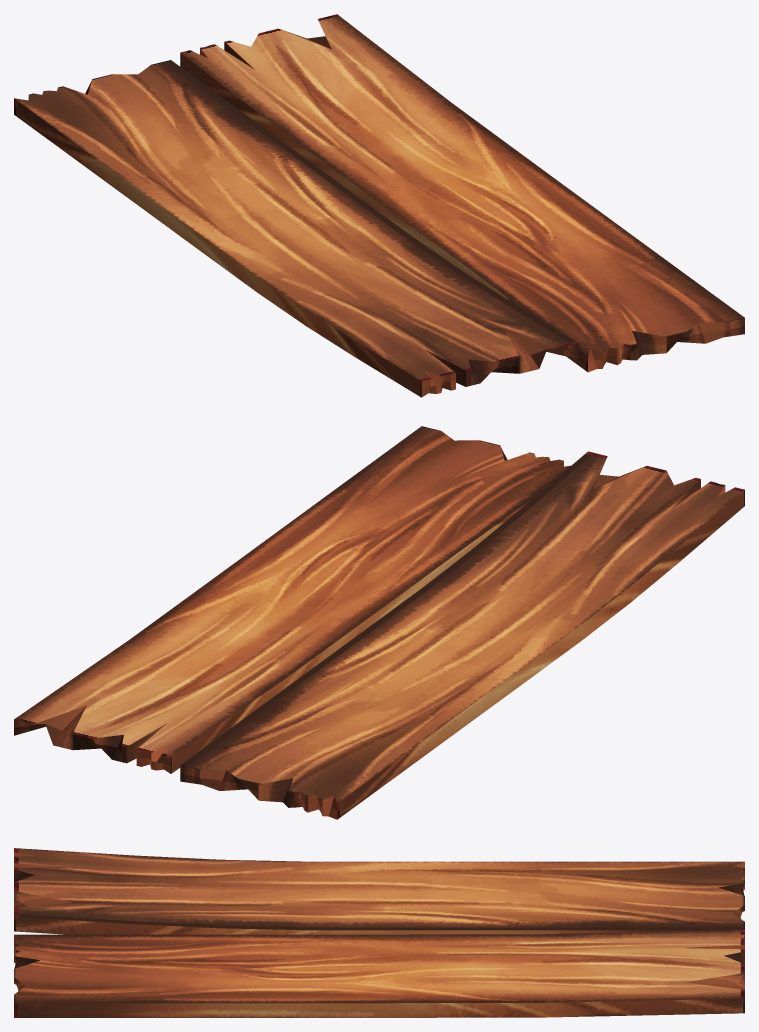
The model's file is Planks(Textured).fbx.
3 renders of one model, top to bottom at view 1: azimuth 30°, elevation 25°; view 2: azimuth 150°, elevation 25°; view 3: azimuth 270°, elevation 25°, orthographic. The views are drawn at different scales.
Visible parts, largest first — view 1: polySurface1; view 2: polySurface1; view 3: polySurface1.
Part boxes in pixels (bbox=[...]): polySurface1: bbox=[14, 14, 744, 397]; polySurface1: bbox=[14, 426, 744, 819]; polySurface1: bbox=[14, 848, 744, 1017].
Size of the model in its own units: 206 by 19.46 by 450.
